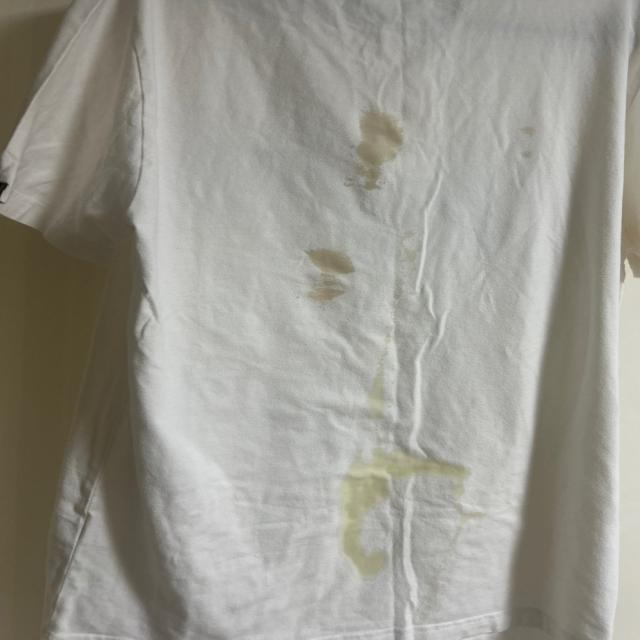stain: (337, 452, 416, 576), (344, 112, 404, 194), (294, 241, 356, 309), (358, 357, 397, 425), (402, 452, 475, 487), (509, 120, 542, 168), (444, 477, 476, 523), (397, 229, 422, 272)
